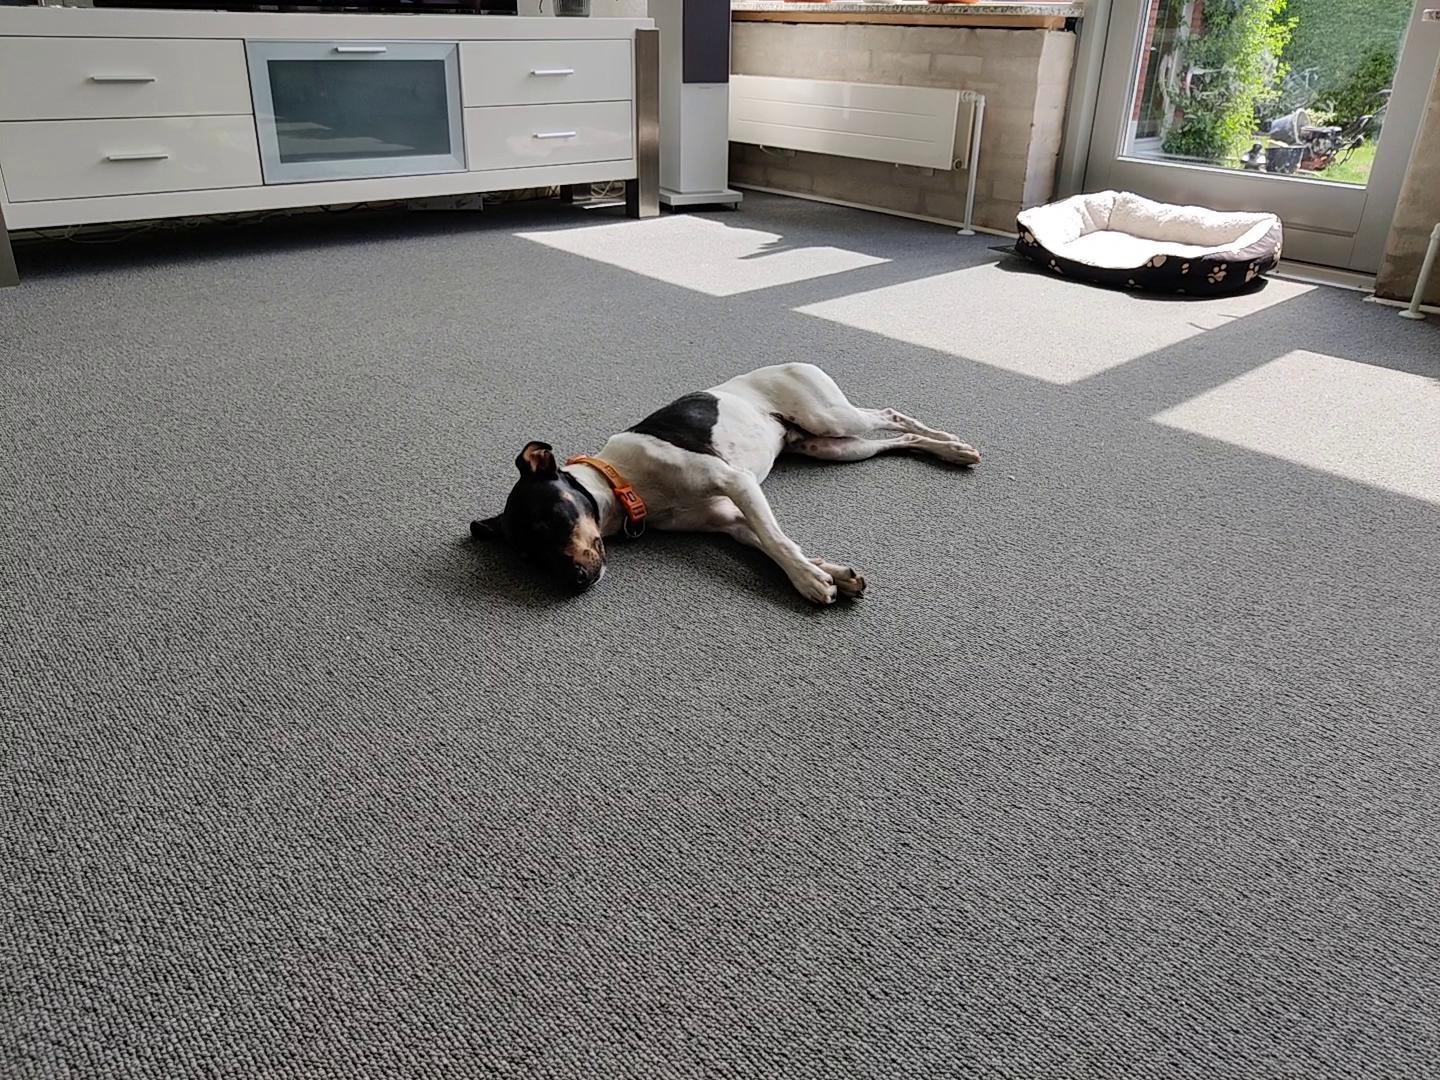Dog: (465, 358, 984, 607)
